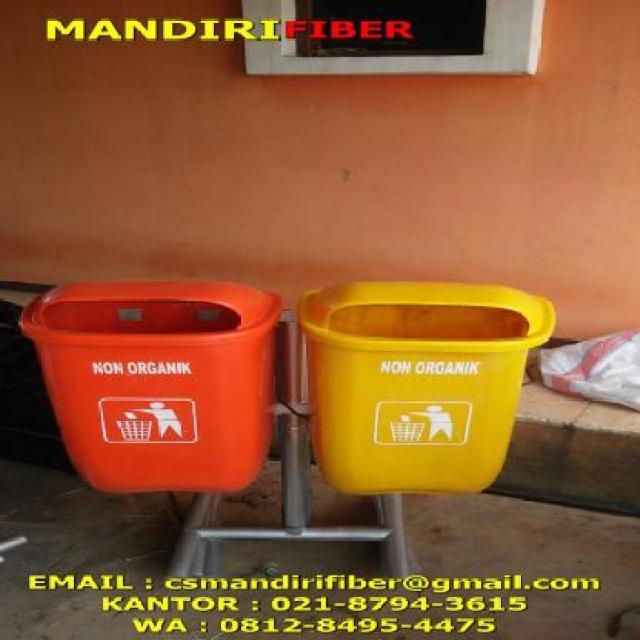garbage container: (285, 281, 576, 510), (7, 273, 278, 512)
